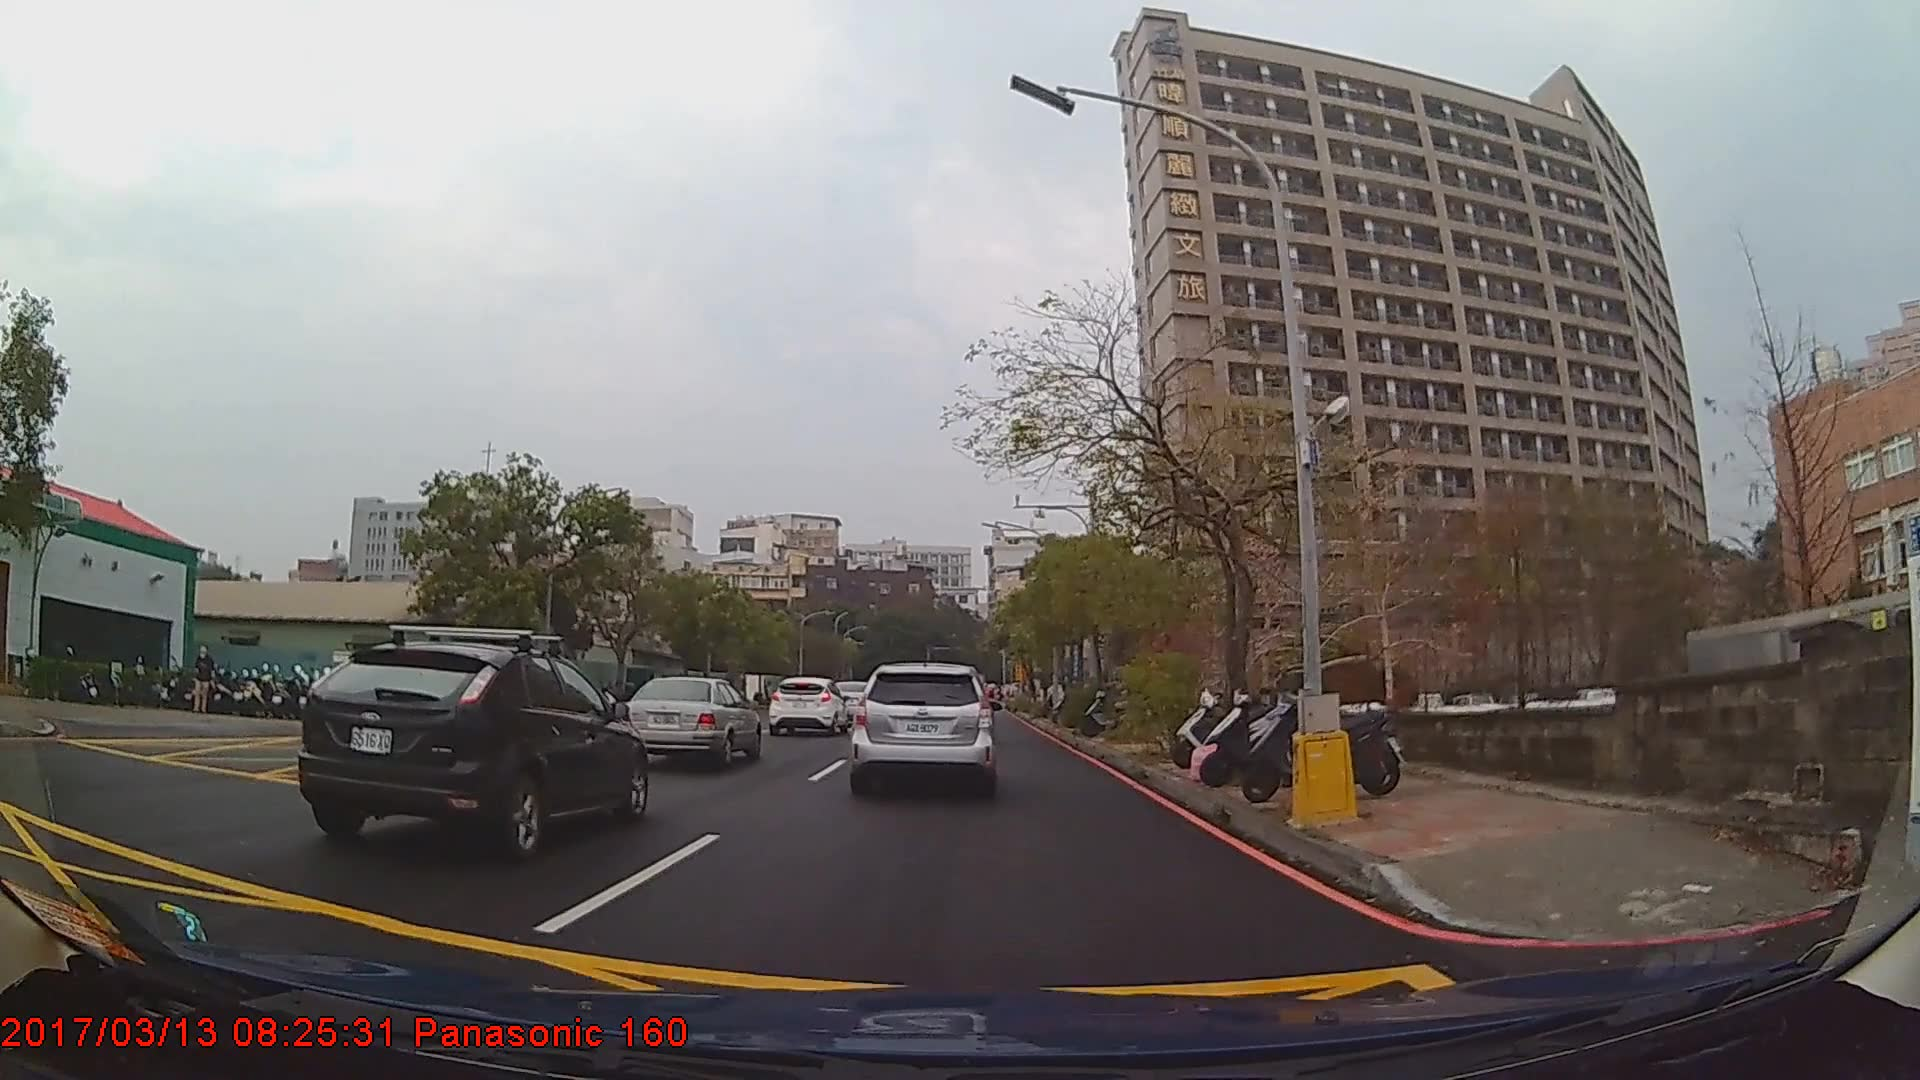pedestrian: (193, 647, 218, 716)
vehicle: (298, 638, 647, 853), (850, 662, 993, 796), (619, 675, 762, 772), (767, 676, 848, 737)
